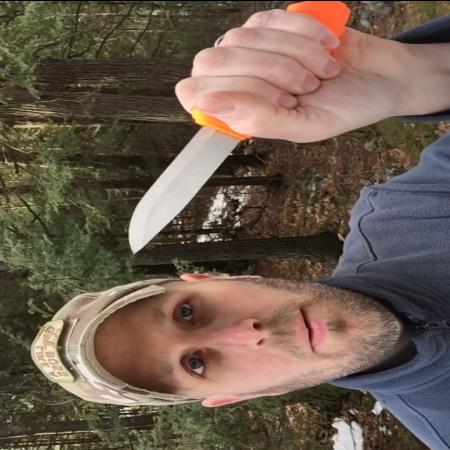long weapon: (123, 62, 320, 258)
